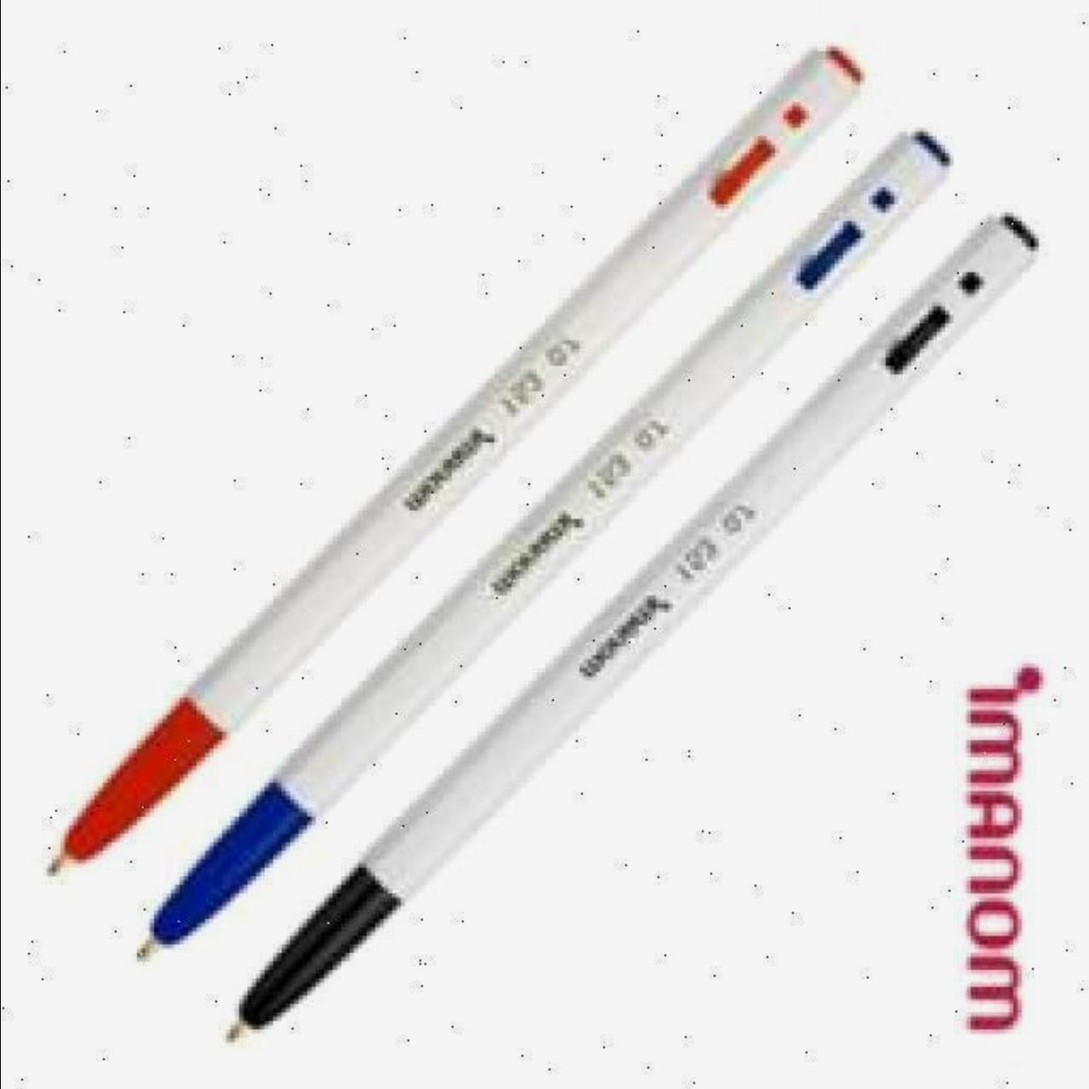pen: (211, 204, 1041, 1046)
